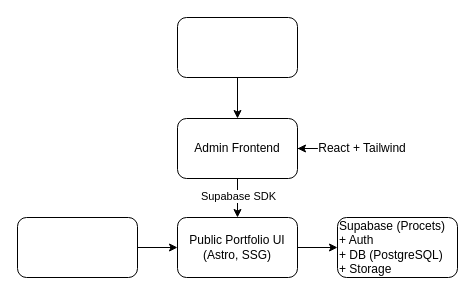
Image size: 475x295. Some labels were removed from this diagram. Here are the shapes that lost their labels. From the top down, the box of each, then its label:
(176, 16, 298, 78): Admin User
(16, 216, 138, 278): Portfolio Viewer
